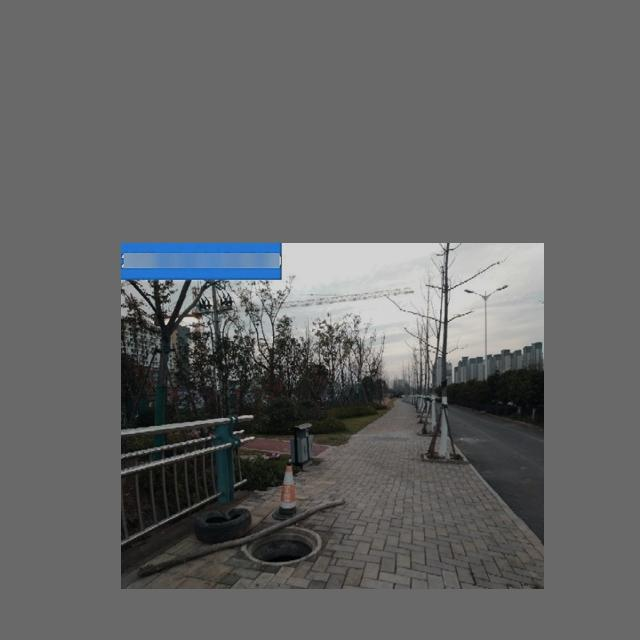lose: (240, 527, 323, 566)
